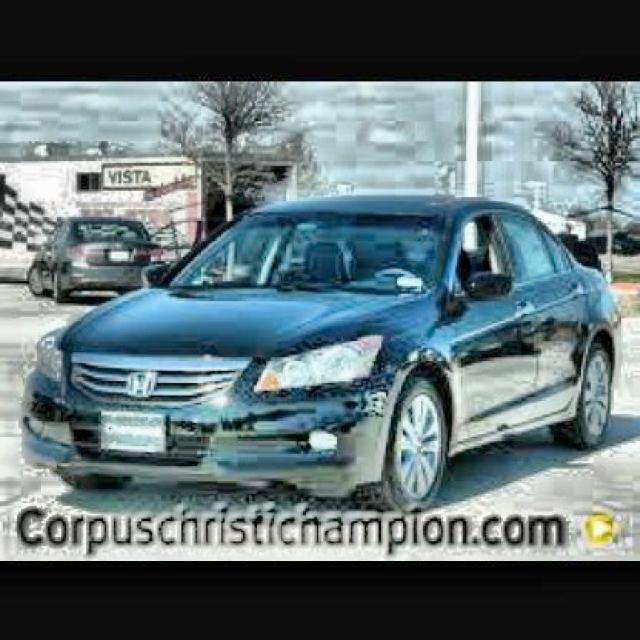black: (21, 194, 619, 512)
